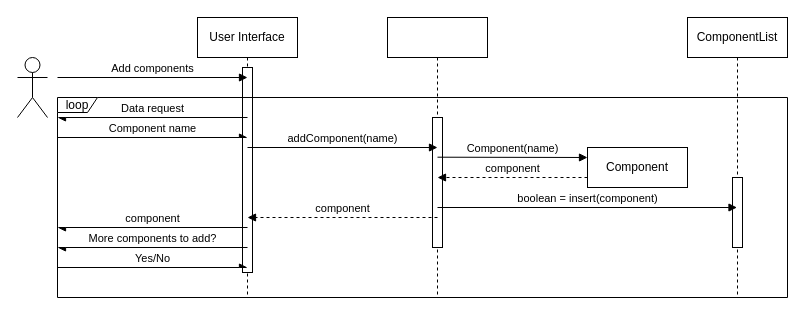
The diagram is 805 pixels wide and 315 high, and some of its shapes have lost their labels. The shapes that lost their labels are listed below. From the top down, each one's centre as x and y in pixels, then its label:
At (x=32, y=87): "Actor".
At (x=437, y=157): "Company".
